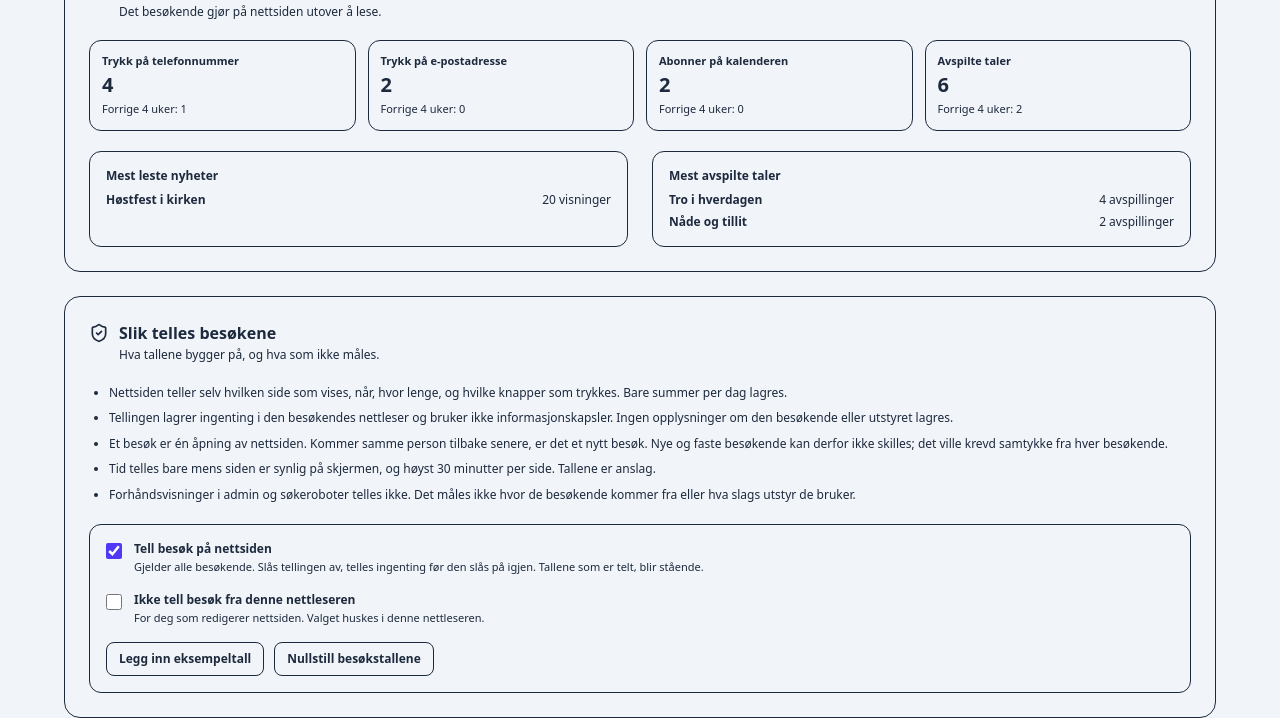
Test: Besøk på nettsiden: nullstille besøkstallene › det spørres først, og spørsmålet sier hva som slettes og at det ikke kan angres
(page scrolled)
What coordinates should you click on to do the following:
click the button "Nullstill besøkstallene"
I would click on:
 (354, 659)
Its box is [274,642,434,676].
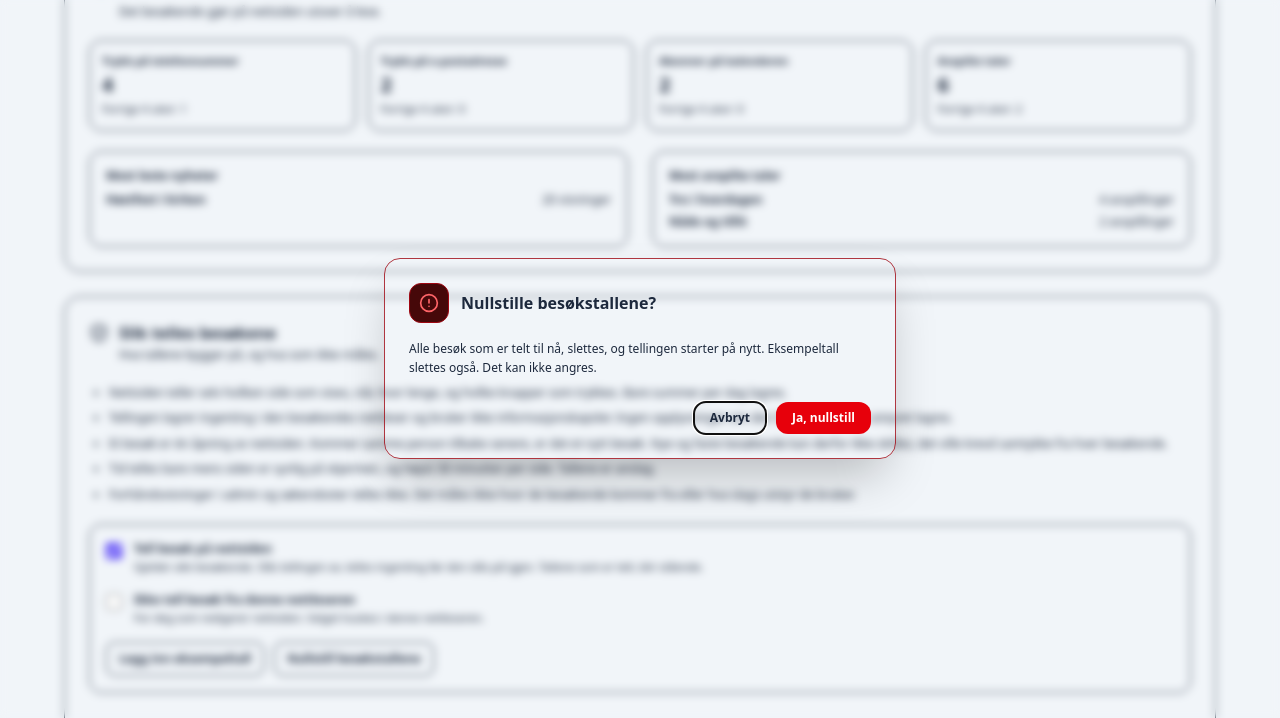
Result: the text "Alle besøk som er telt til nå, slettes, og tellingen starter på nytt. Eksempeltall slettes også. Det kan ikke angres." is shown at [409,340,839,376]
